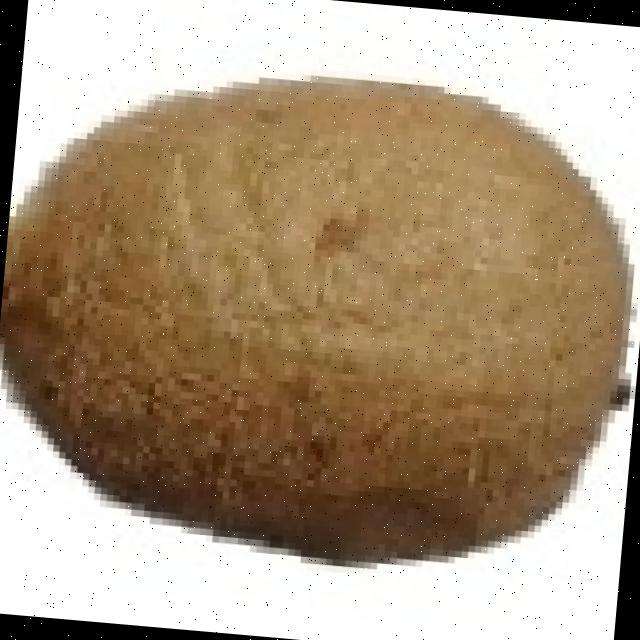kiwi: (11, 77, 639, 550)
